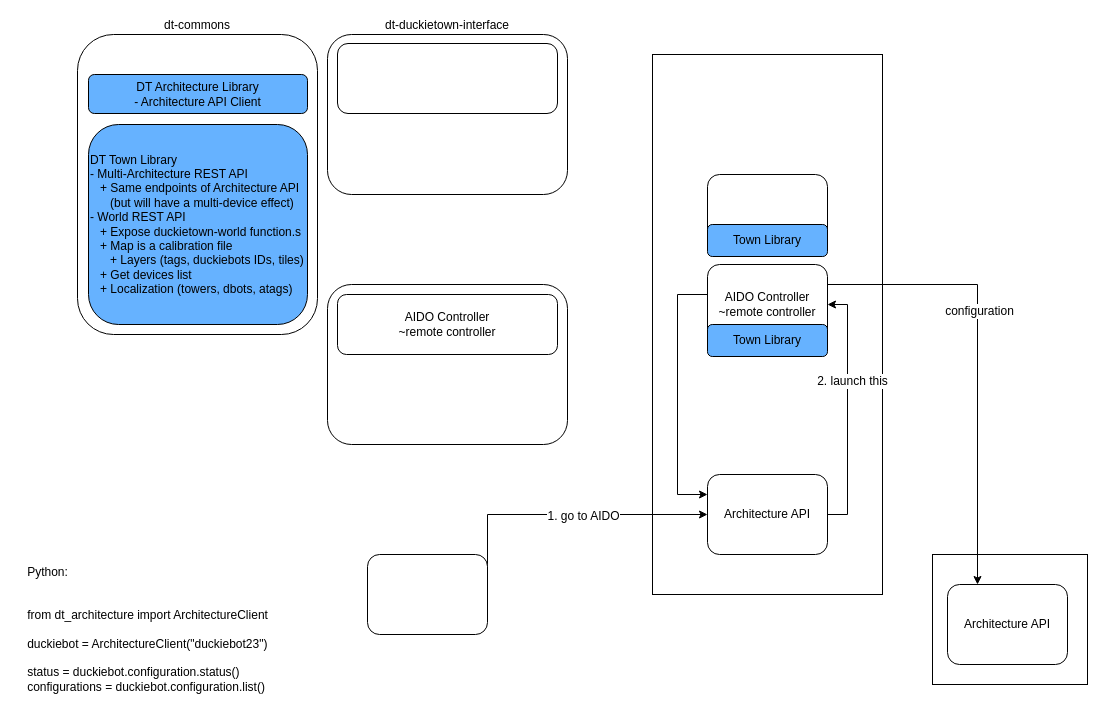
Some shapes in this 1105 by 723 pixel diagram are drawn without their labels. Each missing label, with the box of its shape:
Autolab IFace: (366, 554, 488, 634)
dt-aido-town: (326, 284, 568, 444)
Duckiebot Device: (932, 554, 1088, 684)
Remote Controller: (706, 174, 828, 254)
Remote Controller Default: (336, 42, 558, 114)
